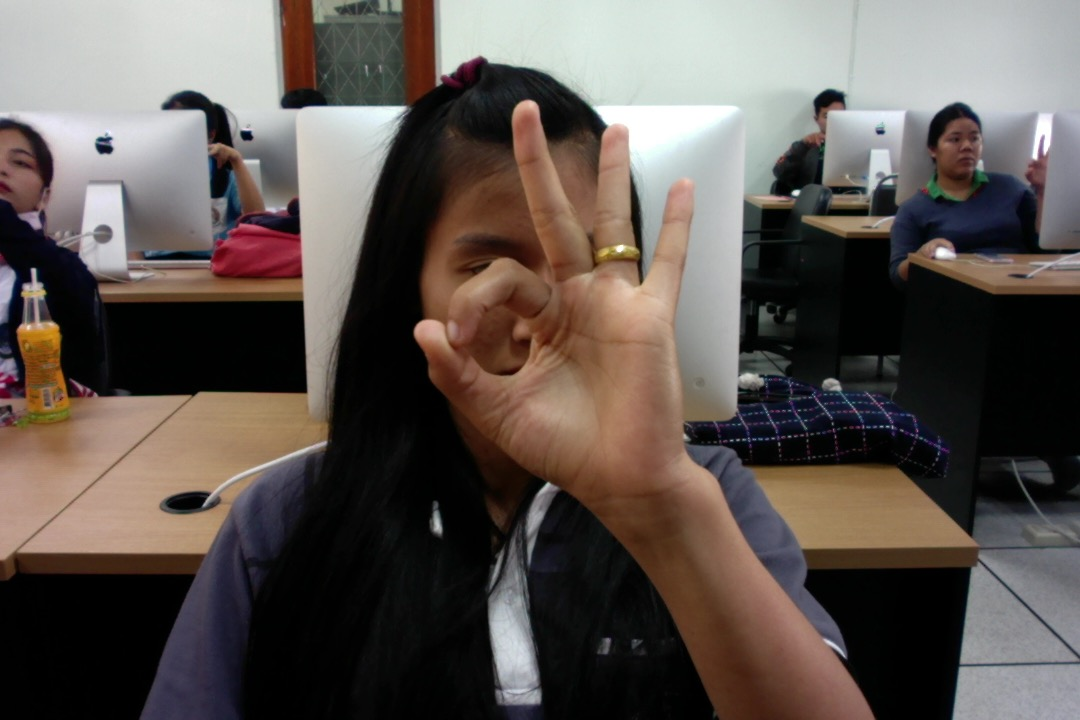for: (402, 88, 714, 510)
